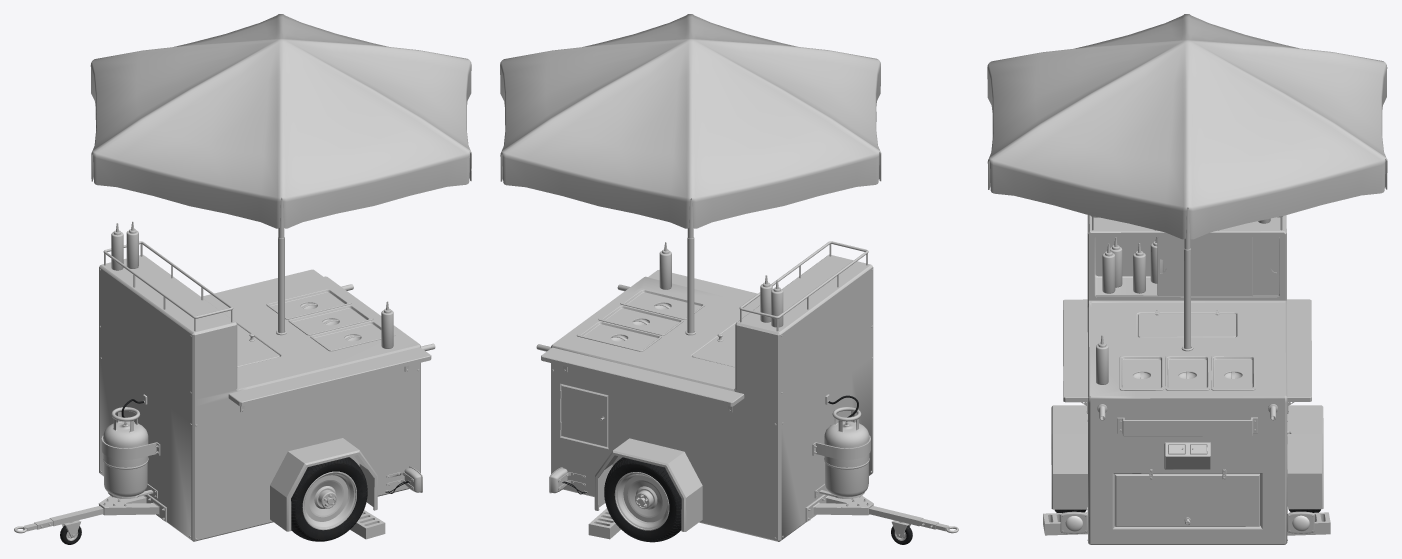
Rendered from KB3D_CTS_HotDogTrailer_A.fbx.
3 views of the same model, side by side, from view 1: azimuth 30°, elevation 25°; view 2: azimuth 150°, elevation 25°; view 3: azimuth 270°, elevation 25° (orthographic). The views are drawn at different scales.
Visible parts, largest first — view 1: KB3D_CTS_HotDogTrailer_A_Main; view 2: KB3D_CTS_HotDogTrailer_A_Main; view 3: KB3D_CTS_HotDogTrailer_A_Main.
Boxes of the visible parts, <box> form: KB3D_CTS_HotDogTrailer_A_Main: <box>14,14,471,544</box>; KB3D_CTS_HotDogTrailer_A_Main: <box>500,14,958,544</box>; KB3D_CTS_HotDogTrailer_A_Main: <box>987,14,1387,544</box>.
Size of the model in its own units: 302 by 288 by 219.
